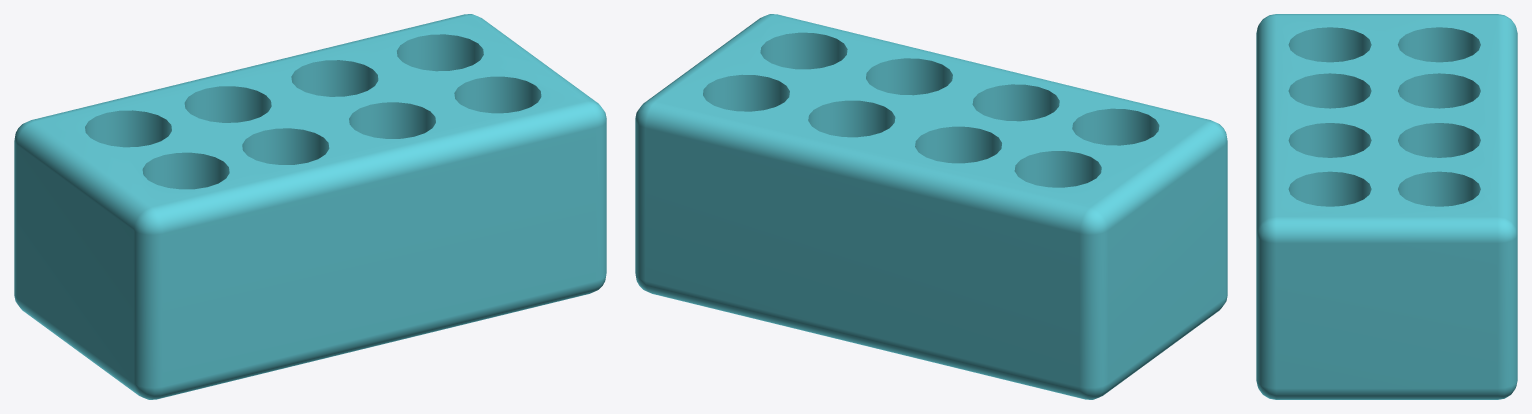
The model's file is Tile2.fbx.
3 renders of one model, left to right at view 1: azimuth 30°, elevation 25°; view 2: azimuth 150°, elevation 25°; view 3: azimuth 270°, elevation 25°, orthographic. The views are drawn at different scales.
Visible parts, largest first — view 1: m2; view 2: m2; view 3: m2.
Boxes of the visible parts, x1,y1,x2,y2 form: m2: (14,14,606,399); m2: (635,14,1227,399); m2: (1256,14,1517,399).
Bounding box in the file's own units: 12.4 × 4.81 × 6.29.
